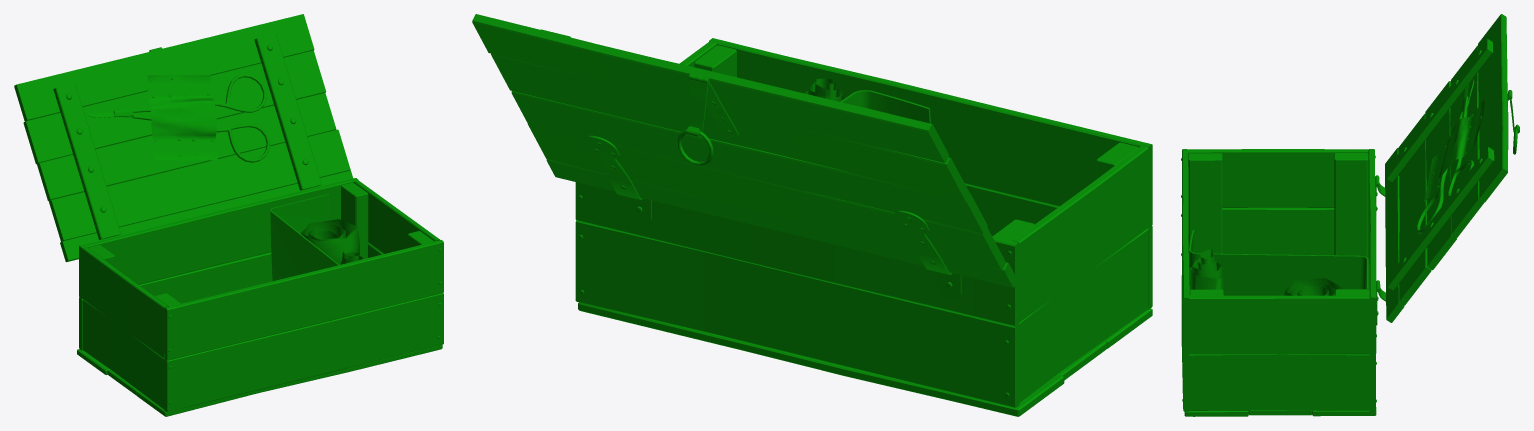
Rendered from SM_Tool_Box.fbx.
3 views of the same model, side by side, from view 1: azimuth 30°, elevation 25°; view 2: azimuth 150°, elevation 25°; view 3: azimuth 270°, elevation 25° (orthographic). The views are drawn at different scales.
Parts seen in each view (by area): view 1: SM_ToolBox; view 2: SM_ToolBox; view 3: SM_ToolBox.
Boxes of the visible parts, x1,y1,x2,y2 form: SM_ToolBox: [14, 14, 443, 416]; SM_ToolBox: [472, 14, 1152, 416]; SM_ToolBox: [1181, 14, 1519, 416].
Bounding box in the file's own units: 59.27 × 54.66 × 44.89.
